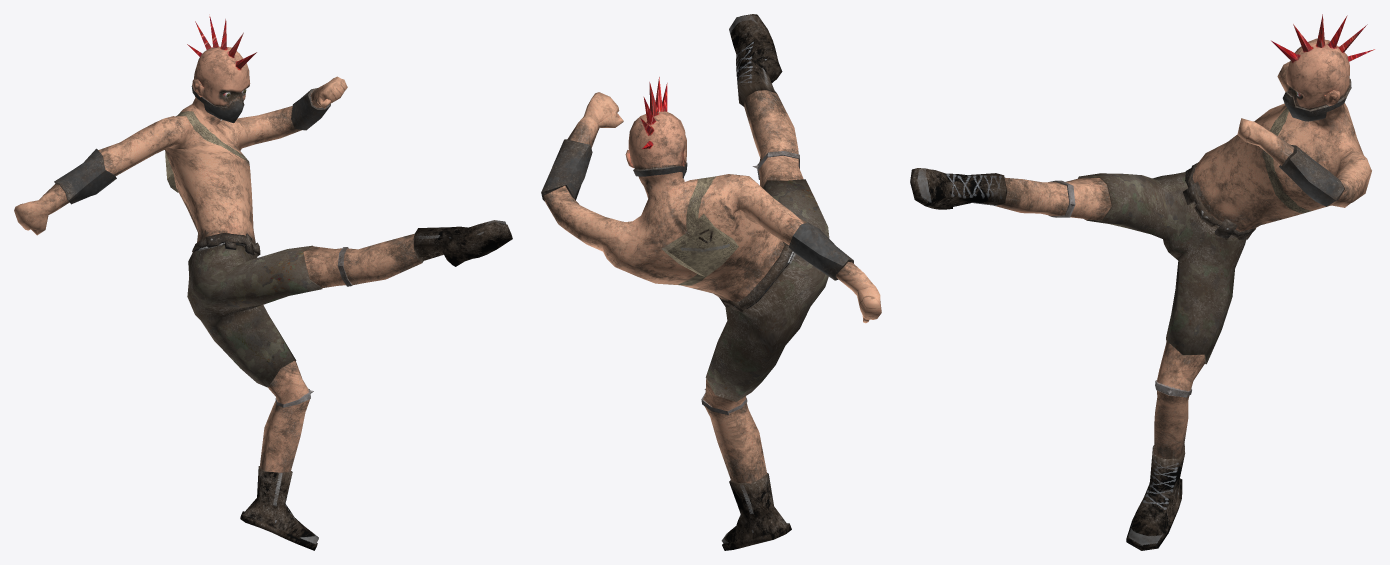
The model's file is Anim_ataque_f1_npc2.0019.obj.
3 renders of one model, left to right at view 1: azimuth 30°, elevation 25°; view 2: azimuth 150°, elevation 25°; view 3: azimuth 270°, elevation 25°, orthographic. The views are drawn at different scales.
Visible parts, largest first — view 1: polySurface1; view 2: polySurface1; view 3: polySurface1.
Boxes of the visible parts, x1,y1,x2,y2 form: polySurface1: (14, 14, 512, 550); polySurface1: (541, 14, 881, 550); polySurface1: (910, 14, 1374, 550).
Bounding box in the file's own units: 6.57 × 9.45 × 7.49.
